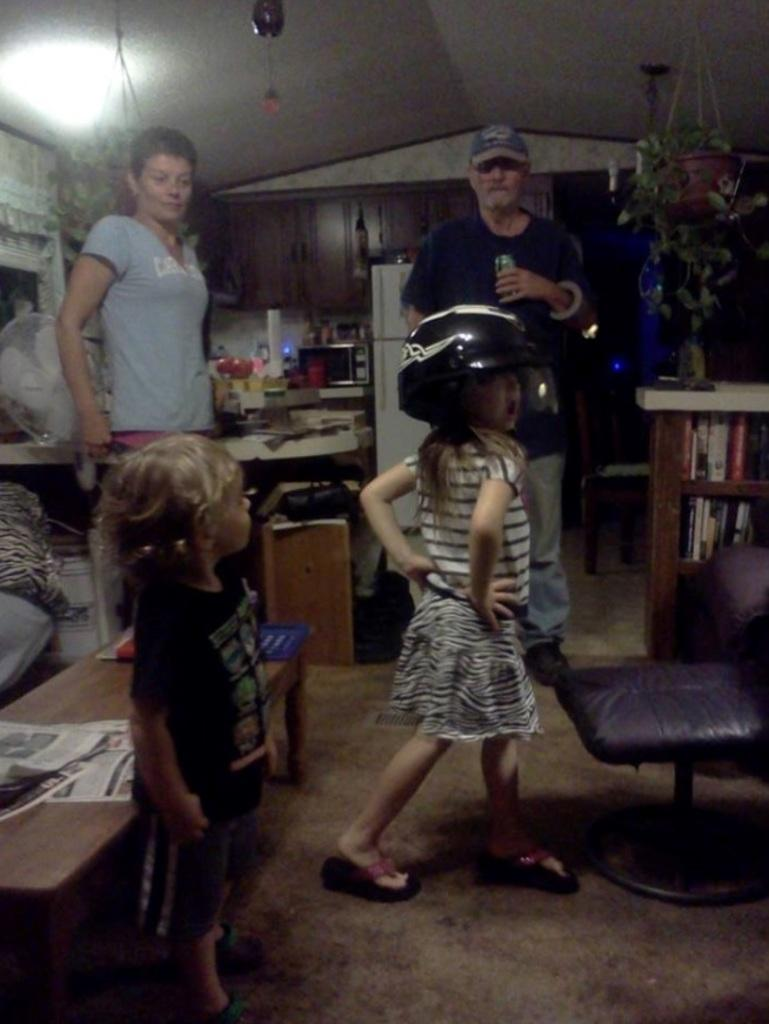Hat: (468, 120, 530, 168)
